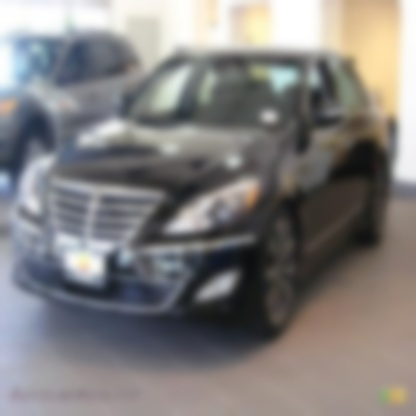Vehicle: (12, 47, 391, 341)
